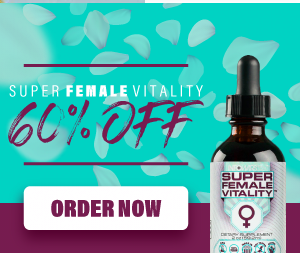fake_button: (13, 182, 198, 239)
